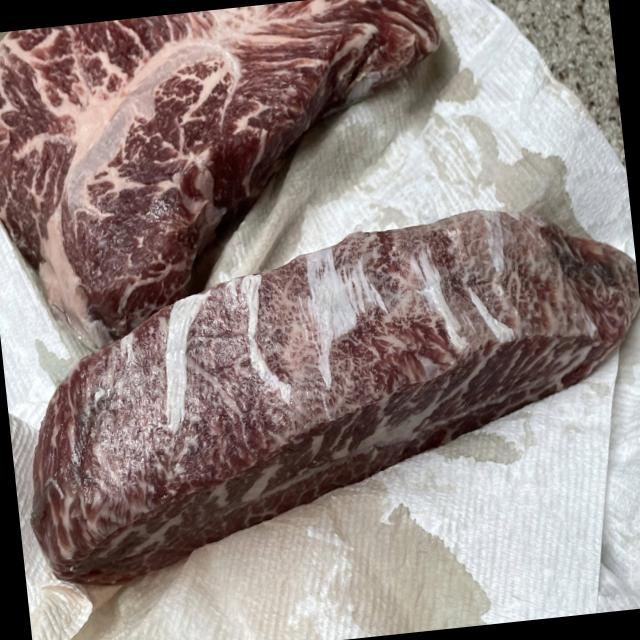beef: (91, 299, 516, 473), (0, 23, 224, 258)
